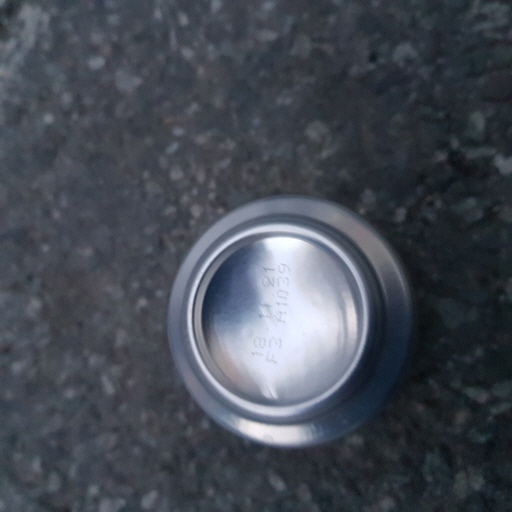Metal_0: (163, 193, 421, 455)
